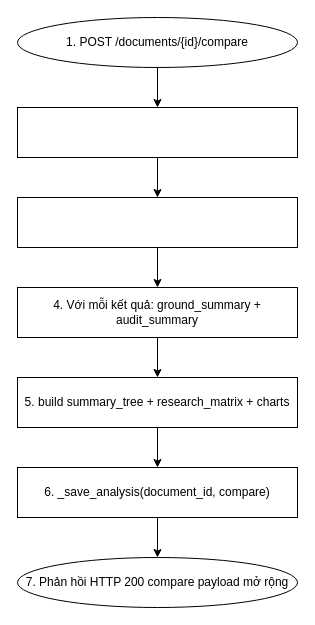
Image size: 315x625. Some labels were removed from this diagram. Each missing label, with the centre of its shape:
2. get_document → lấy clean_text: (x=157, y=132)
3. summarize_all(algorithms, reference, length controls): (x=157, y=222)
